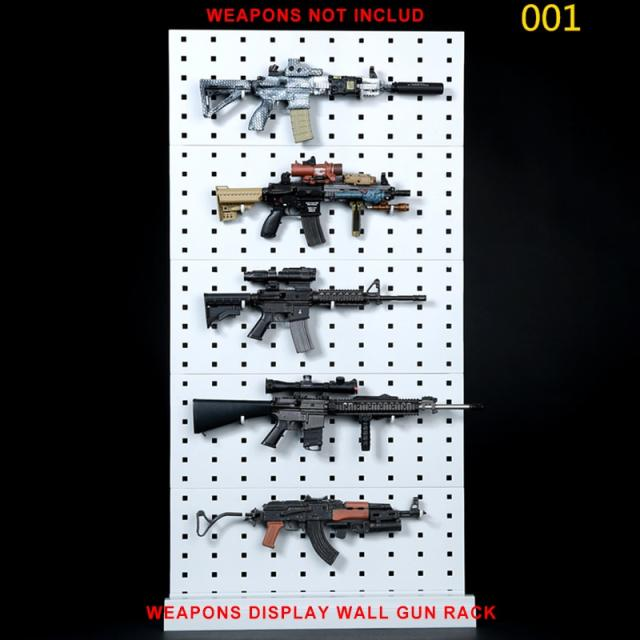Rifle: (193, 376, 474, 452), (200, 57, 444, 143), (204, 266, 426, 354), (214, 162, 410, 247), (195, 494, 423, 566)
